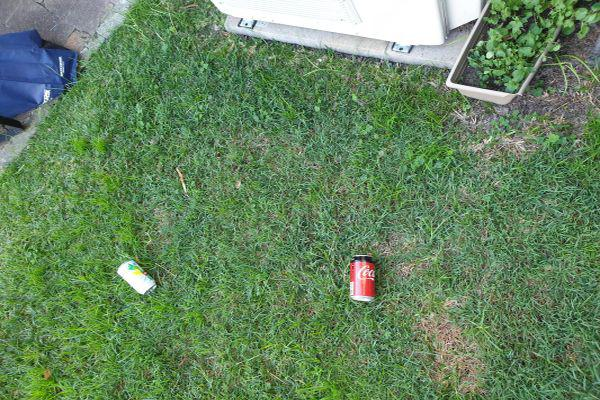Plastic Bottle: (117, 260, 157, 296), (350, 254, 376, 302)
